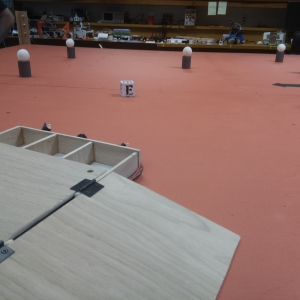blockE: (120, 79, 137, 100)
corner: (15, 10, 33, 45)
obstacle: (15, 50, 35, 80), (180, 47, 194, 70), (65, 37, 78, 60), (275, 43, 284, 62)
side: (1, 122, 147, 183)
slope: (1, 169, 244, 299)
start: (270, 81, 300, 89)
